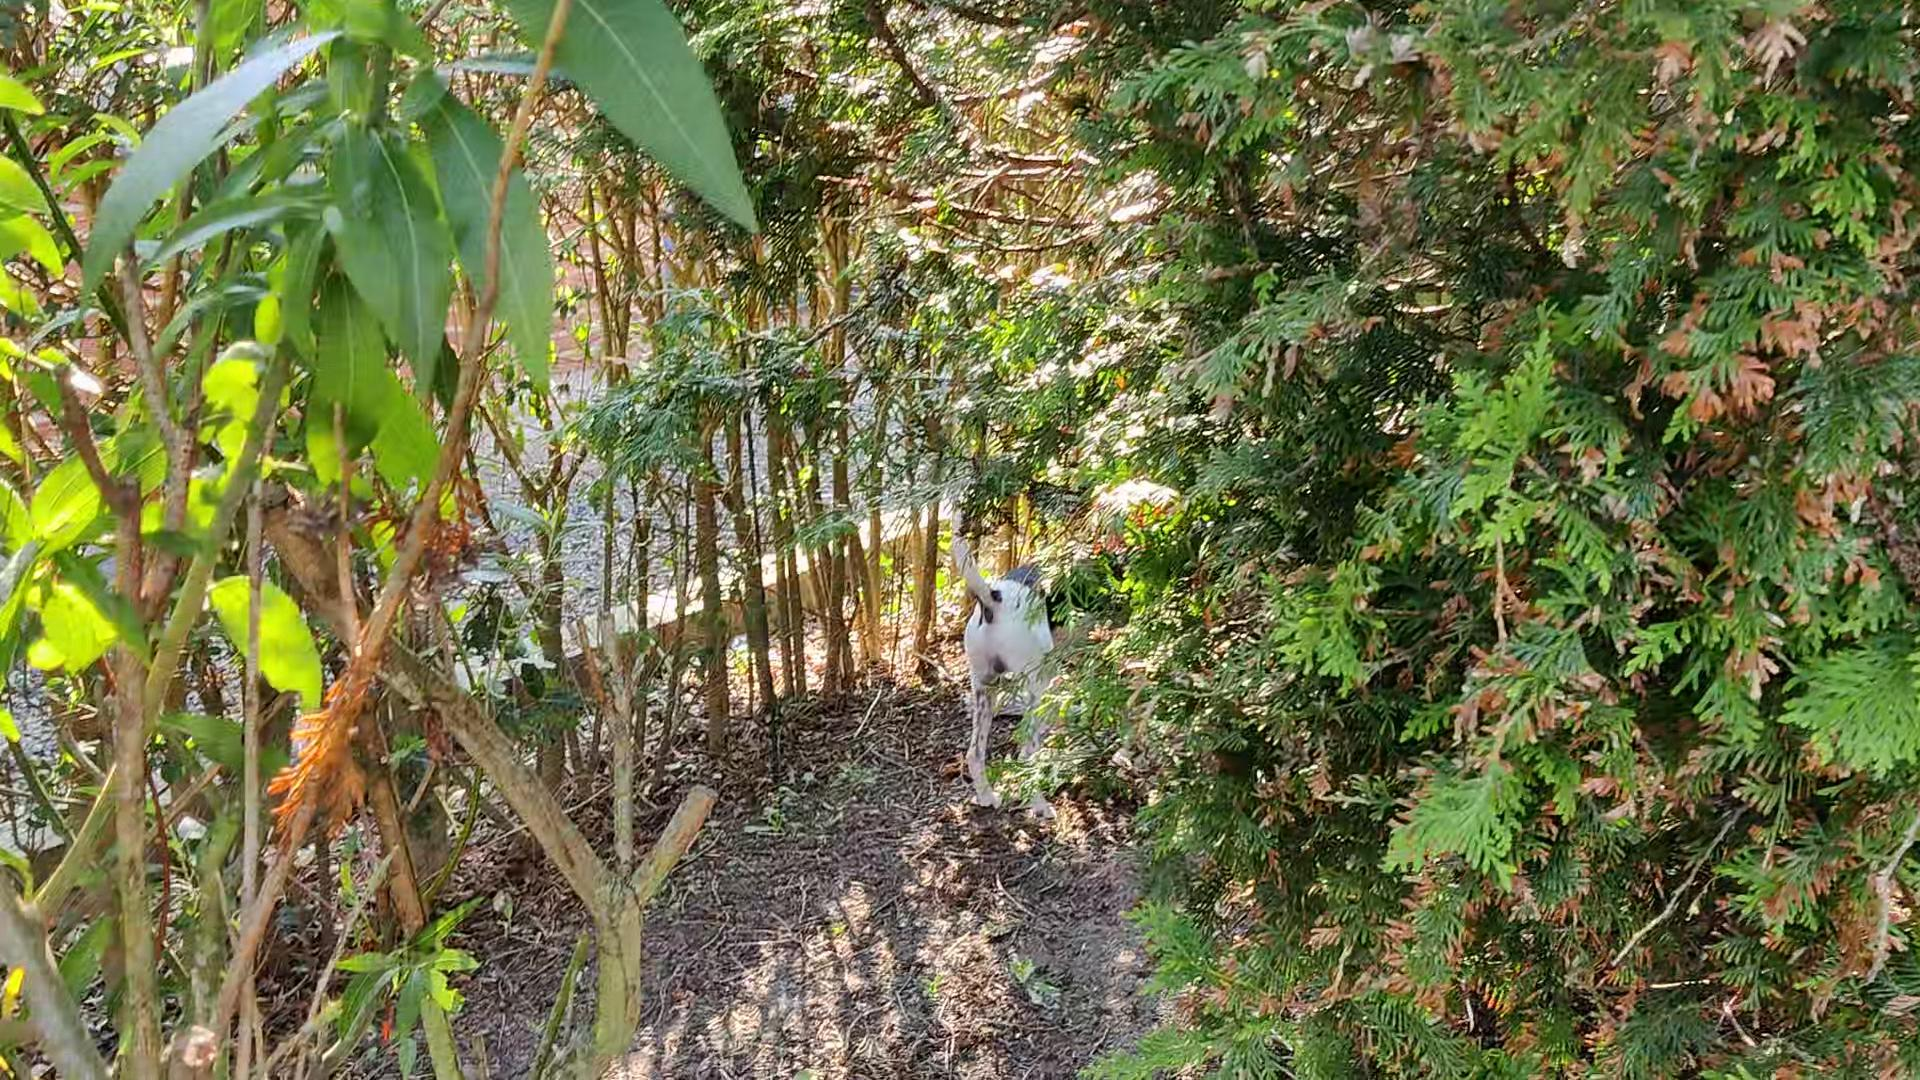Dog: (938, 489, 1127, 827)
